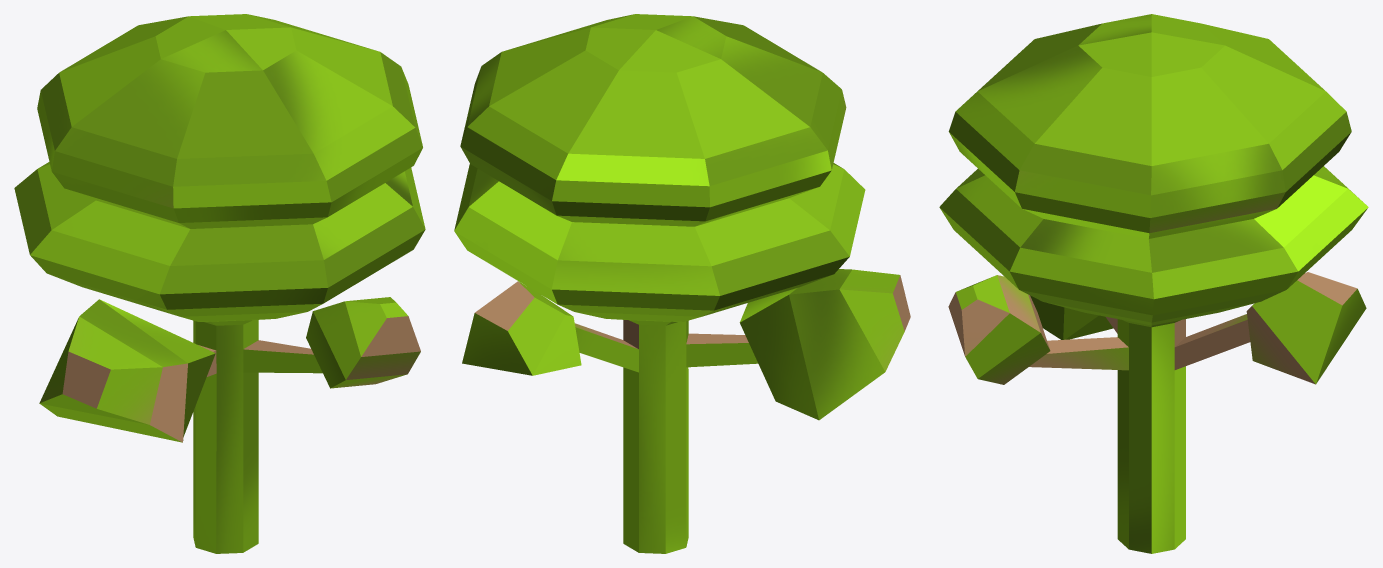
Rendered from tree_3.2.fbx.
3 views of the same model, side by side, from view 1: azimuth 30°, elevation 25°; view 2: azimuth 150°, elevation 25°; view 3: azimuth 270°, elevation 25° (orthographic).
Visible parts, largest first — view 1: Cube; view 2: Cube; view 3: Cube.
Boxes of the visible parts, bbox=[...] form: Cube: bbox=[14, 14, 425, 553]; Cube: bbox=[454, 14, 910, 553]; Cube: bbox=[939, 14, 1368, 553].
Size of the model in its own units: 369 by 457 by 351.
